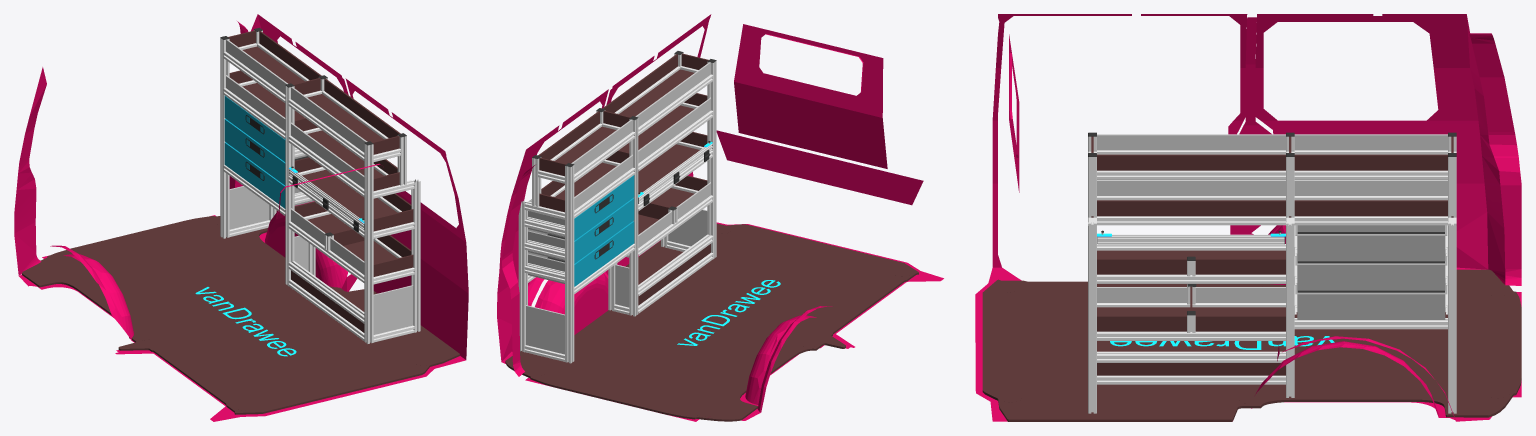
The model's file is vd_export_regalova_vestavba_vw_transporter_t6_l1_ad780226.glb.
3 renders of one model, left to right at view 1: azimuth 30°, elevation 25°; view 2: azimuth 150°, elevation 25°; view 3: azimuth 270°, elevation 25°, orthographic. The views are drawn at different scales.
Parts seen in each view (by area): view 1: SomeName041_Mesh_14034, SomeName_Mesh_0057_(1), 40x40x1250_noha (×3), drawer (×3), CUB10_1288x89 (×4), SL40x40x1267_Zx2 (×5), PR10_1266x220 (×4), CUB10_292x260 (×2), PR10_1266x291 (×2), SL40x40x1267_Zx2_2 (×4), PR10_1288x89 (×2), 40x40x945_noha (+7 smaller); view 2: SomeName041_Mesh_14034, SomeName_Mesh_0057_(1), 40x40x1250_noha (×3), drawer (×3), CUB10_1288x89 (×4), SL40x40x1267_Zx2 (×5), PR10_1266x220 (×4), CUB10_292x260 (×2), SL40x40x1267_Zx2_2 (×4), PR10_1266x291 (×2), PR10_1288x89 (×2), 40x40x945_noha (+7 smaller); view 3: SomeName041_Mesh_14034, SomeName_Mesh_0057_(1), Suplikocel20kg130780349 (×3), PR10_1288x89 (×4), CUB10_1288x89 (×4), SL40x40x1267_Zx2 (×8), SL40x40x1267_Zx2_2 (×7), 40x40x945_noha (×2), PR10_1266x291 (×2), PR10_635x89 (×2), PR10_635x89_2 (×2), PR10_1289x89 (+6 smaller).
Boxes of the visible parts, x1,y1,x2,y2 form: SomeName041_Mesh_14034: [22, 216, 459, 414]; SomeName_Mesh_0057_(1): [14, 14, 468, 421]; 40x40x1250_noha (×3): [220, 38, 373, 343]; drawer (×3): [224, 96, 285, 208]; CUB10_1288x89 (×4): [226, 39, 367, 188]; SL40x40x1267_Zx2 (×5): [223, 51, 364, 323]; PR10_1266x220 (×4): [242, 46, 383, 178]; CUB10_292x260 (×2): [229, 186, 413, 334]; PR10_1266x291 (×2): [302, 169, 397, 263]; SL40x40x1267_Zx2_2 (×4): [223, 165, 364, 340]; PR10_1288x89 (×2): [259, 31, 400, 137]; 40x40x945_noha: [411, 179, 420, 332]; SomeName041_Mesh_14034: [505, 223, 918, 421]; SomeName_Mesh_0057_(1): [497, 14, 943, 421]; 40x40x1250_noha (×3): [565, 61, 716, 363]; drawer (×3): [574, 175, 634, 286]; CUB10_1288x89 (×4): [571, 62, 710, 209]; SL40x40x1267_Zx2 (×5): [574, 74, 713, 295]; PR10_1266x220 (×4): [555, 69, 694, 199]; CUB10_292x260 (×2): [526, 209, 707, 354]; SL40x40x1267_Zx2_2 (×4): [574, 150, 713, 313]; PR10_1266x291 (×2): [638, 144, 699, 234]; PR10_1288x89 (×2): [538, 54, 677, 159]; 40x40x945_noha: [518, 200, 527, 352]; SomeName041_Mesh_14034: [982, 269, 1521, 421]; SomeName_Mesh_0057_(1): [975, 14, 1521, 421]; Suplikocel20kg130780349 (×3): [1295, 225, 1447, 319]; PR10_1288x89 (×4): [1097, 154, 1447, 216]; CUB10_1288x89 (×4): [1097, 134, 1447, 195]; SL40x40x1267_Zx2 (×8): [1097, 150, 1447, 362]; SL40x40x1267_Zx2_2 (×7): [1097, 170, 1447, 384]; 40x40x945_noha (×2): [1088, 223, 1456, 413]; PR10_1266x291 (×2): [1097, 250, 1285, 315]; PR10_635x89 (×2): [1097, 259, 1285, 331]; PR10_635x89_2 (×2): [1097, 259, 1285, 331]; PR10_1289x89: [1097, 363, 1285, 375].
Size of the model in its own units: 1703 by 1406 by 2494.
